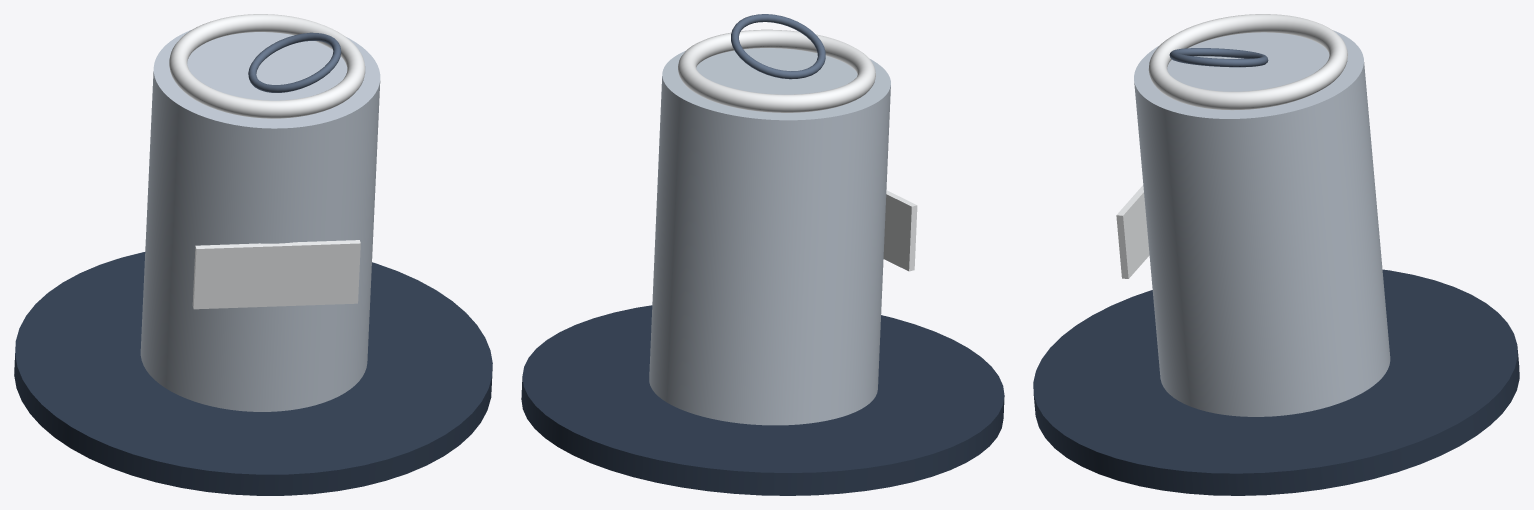
File: Metal.glb
3 views of the same model, side by side, from view 1: azimuth 30°, elevation 25°; view 2: azimuth 150°, elevation 25°; view 3: azimuth 270°, elevation 25° (orthographic).
Size of the model in its own units: 2.36 by 2.01 by 2.36.
